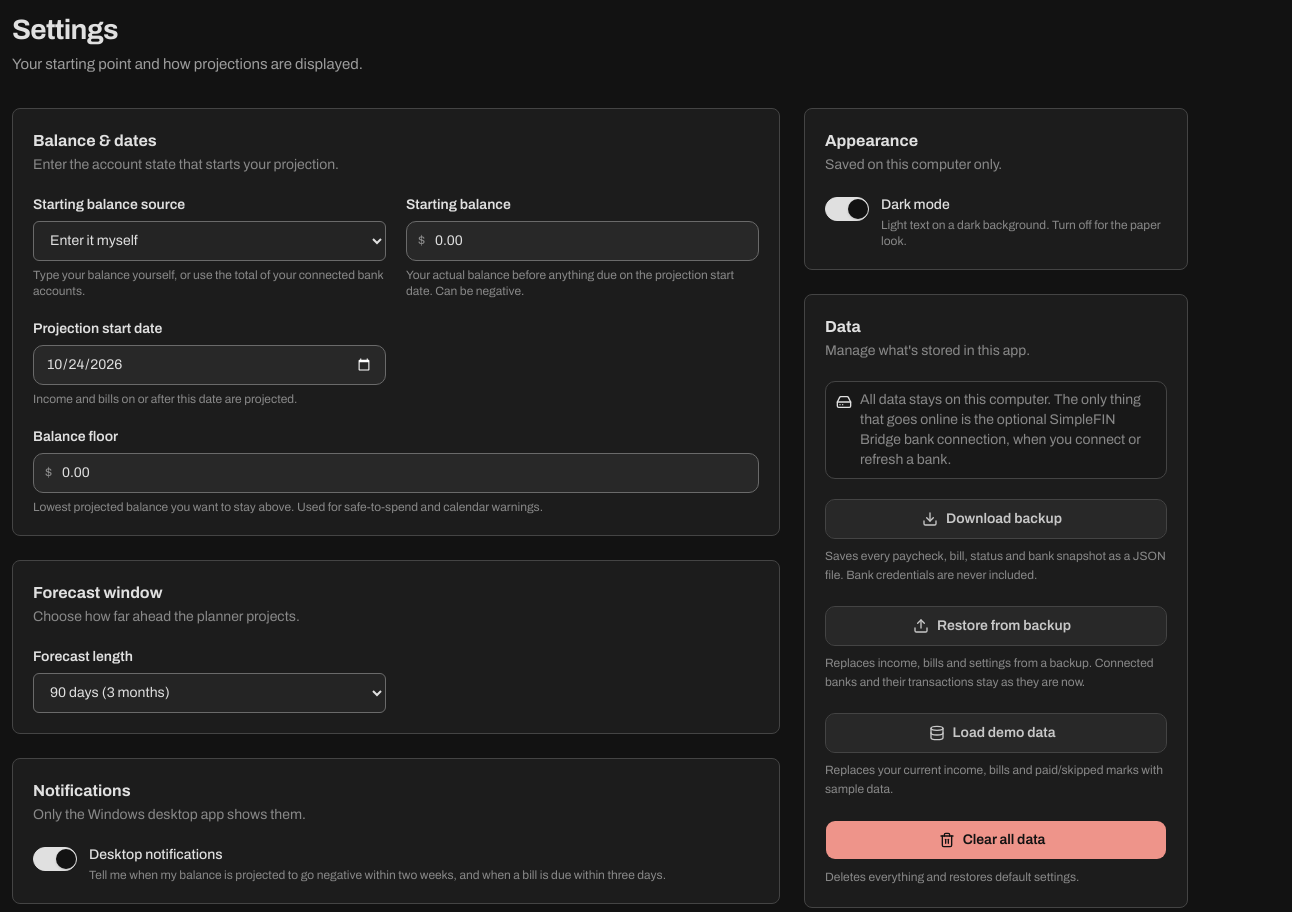
Test: Settings → Download backup › shows the server's error and downloads nothing when the export fails
Step 1. Click the button with test id "settings-export" → (996, 518), box x1=825 y1=498 x2=1167 y2=538
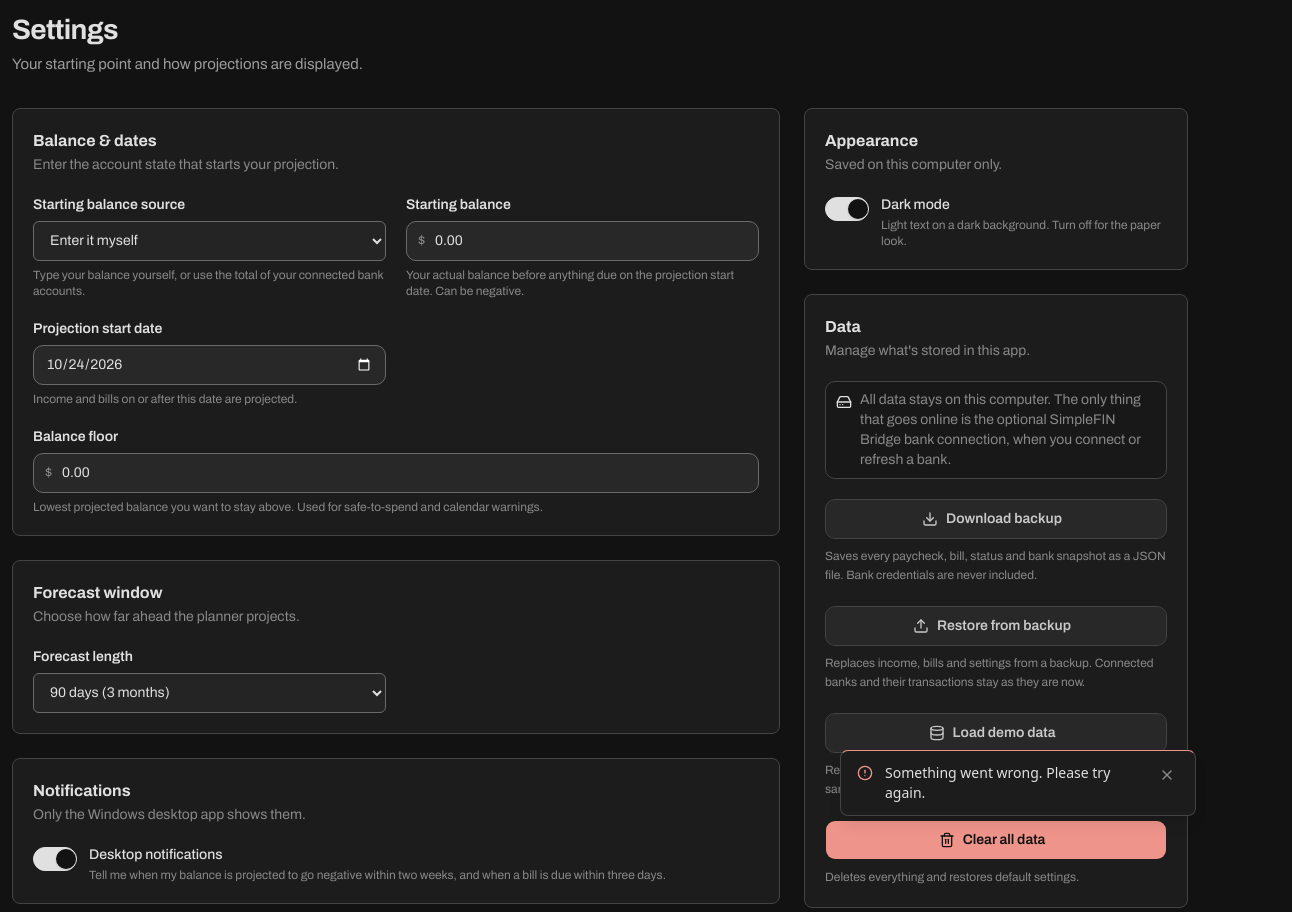
Expected: the text "Something went wrong. Please try again." is shown, x1=885 y1=763 x2=1139 y2=803
